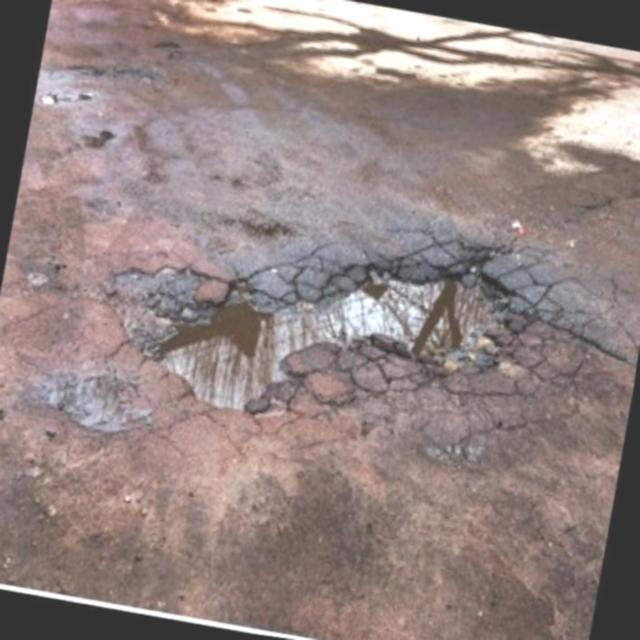Pothole: (147, 248, 532, 413)
